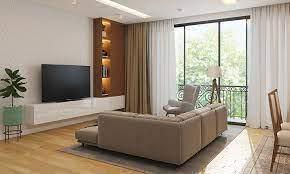TV: (37, 64, 93, 103)
chair: (263, 92, 290, 170), (162, 84, 202, 118), (272, 89, 290, 130)
light: (205, 63, 225, 107)
sofa: (74, 104, 232, 162)
